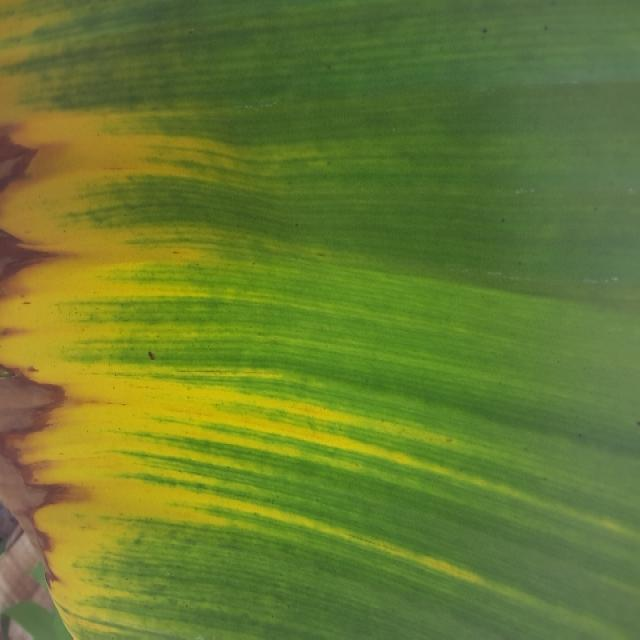Cordana: (0, 0, 529, 638)
